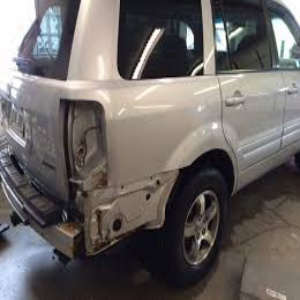tail_lights: (59, 98, 106, 183)
